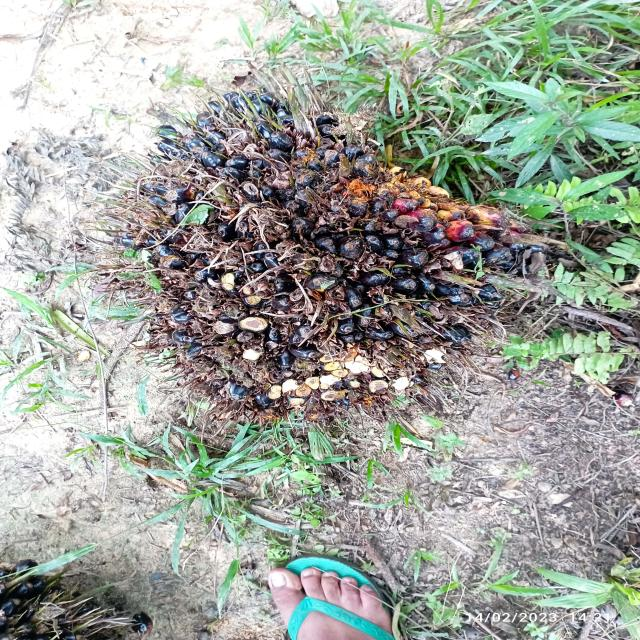fraksi 00: (81, 64, 581, 464)
